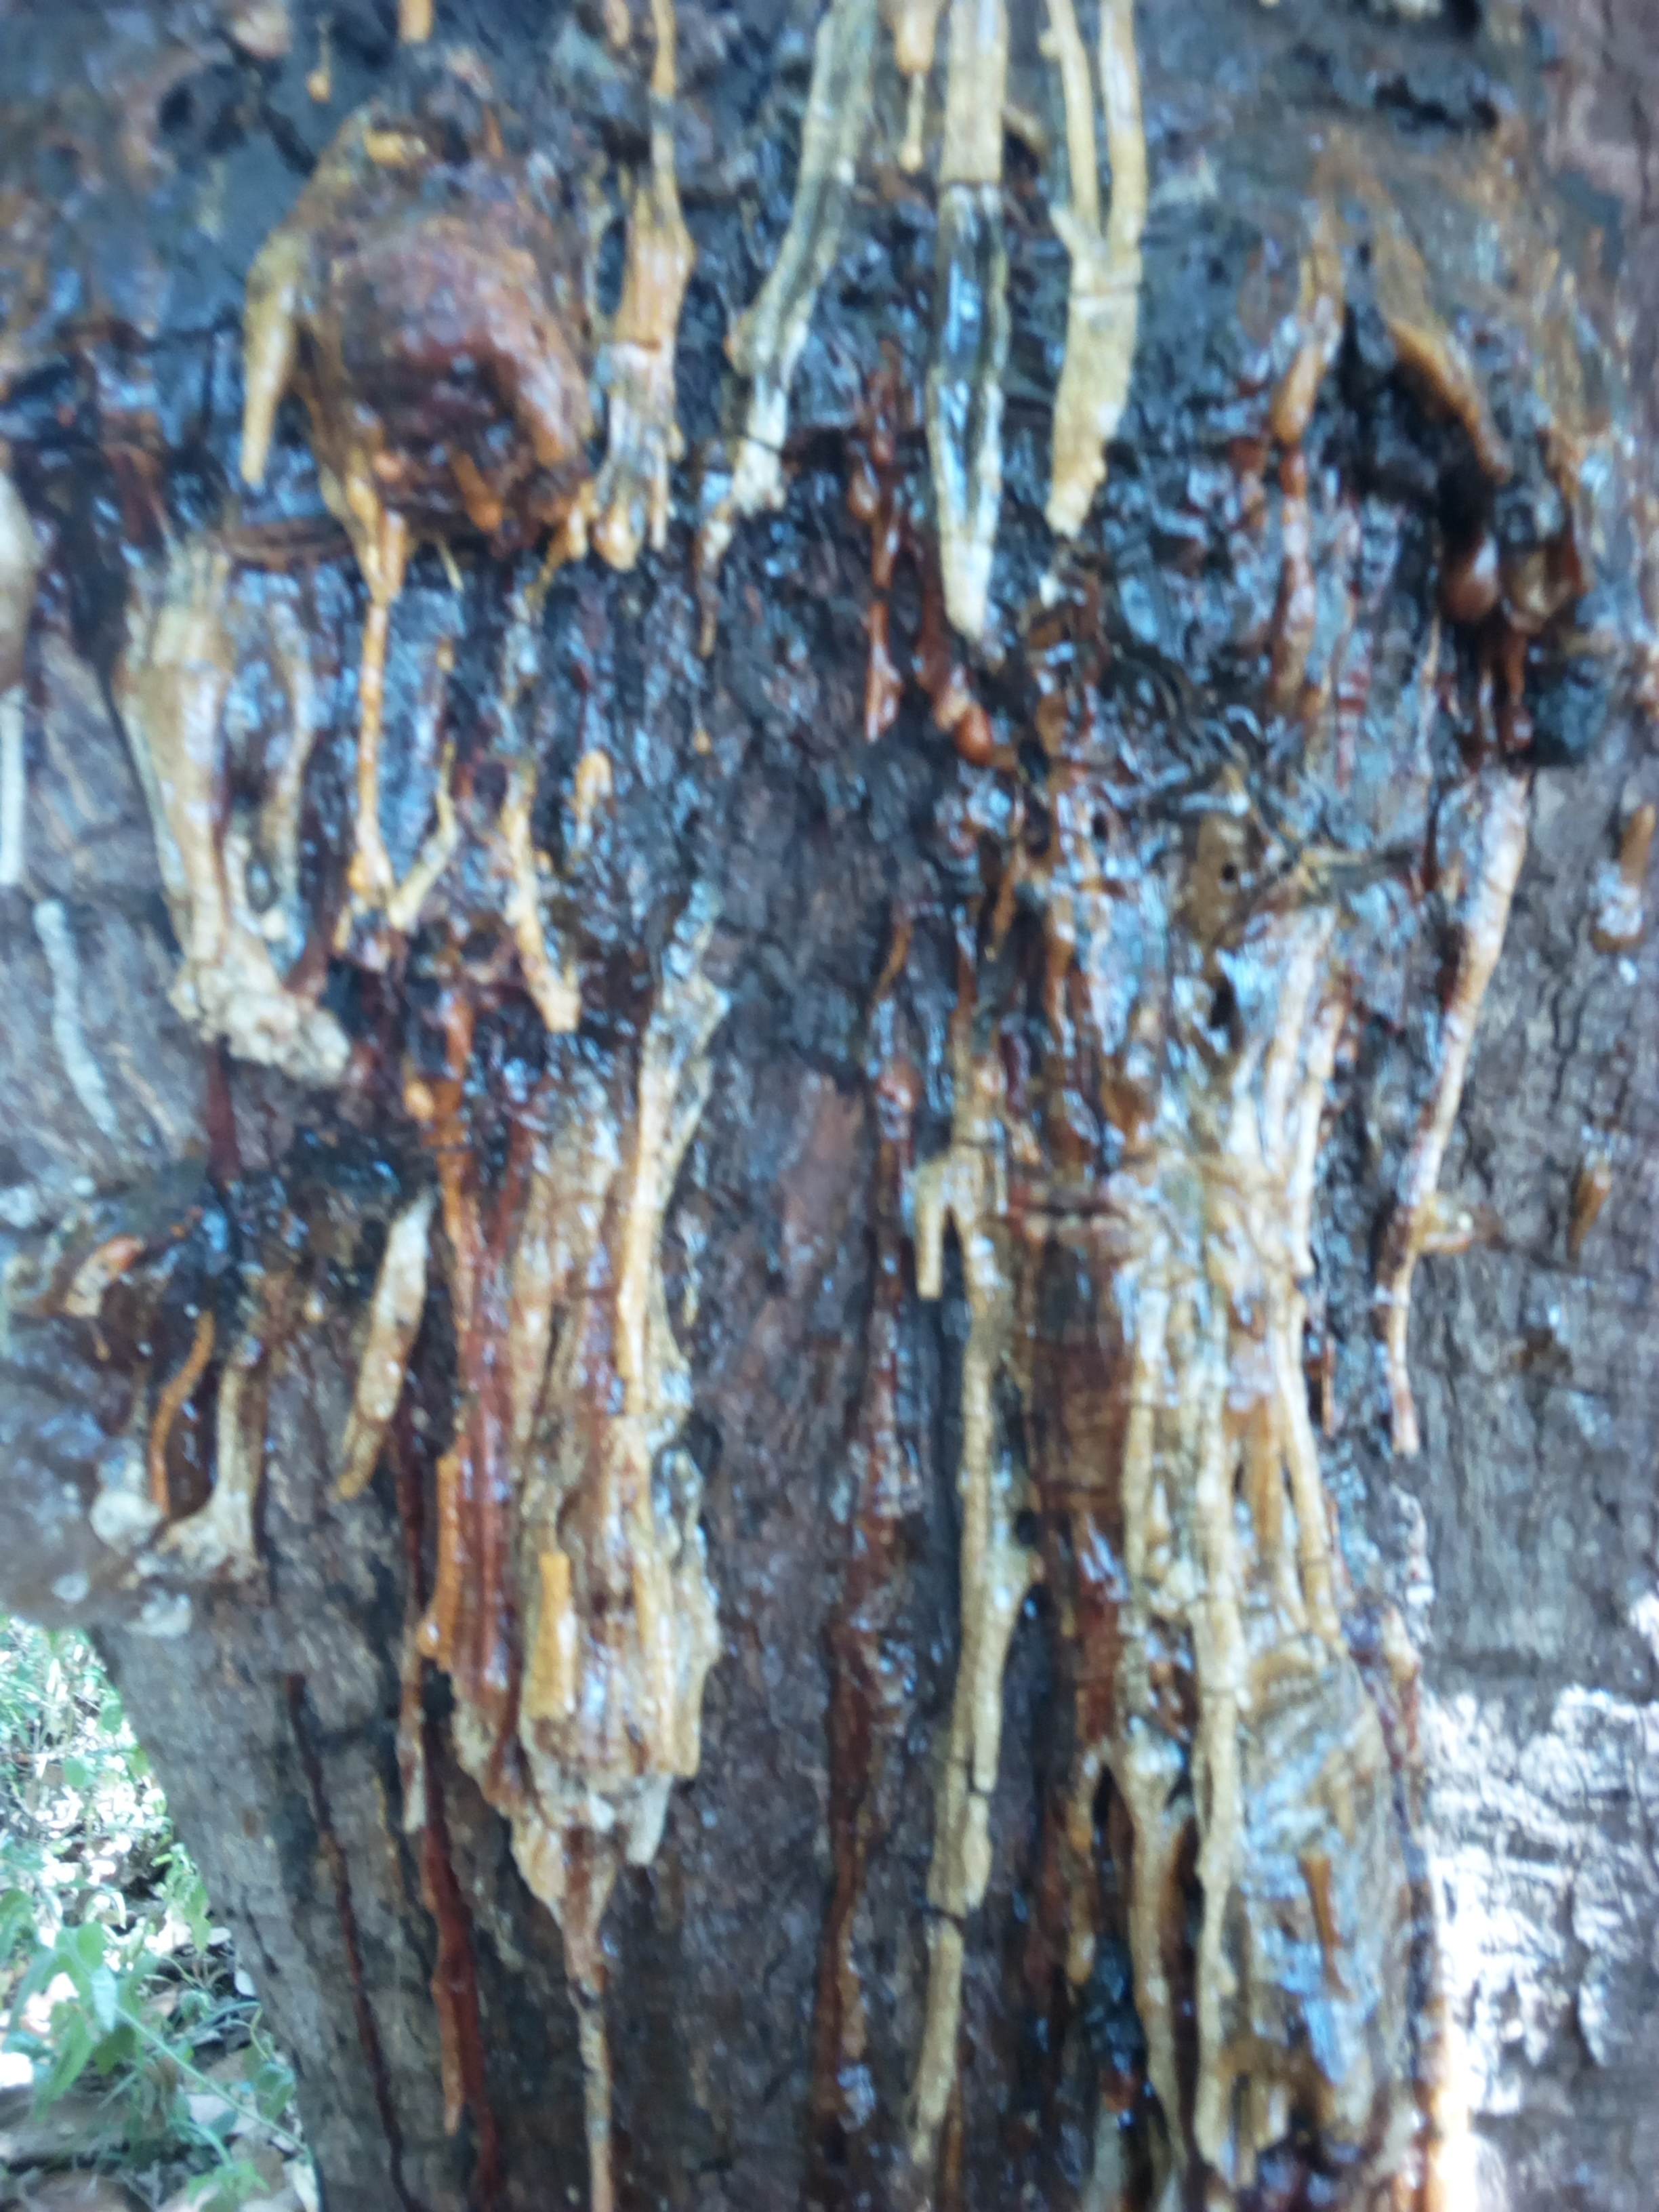Gommose: (131, 611, 732, 2160), (880, 700, 1486, 2212), (240, 85, 762, 590), (1236, 134, 1659, 697)
